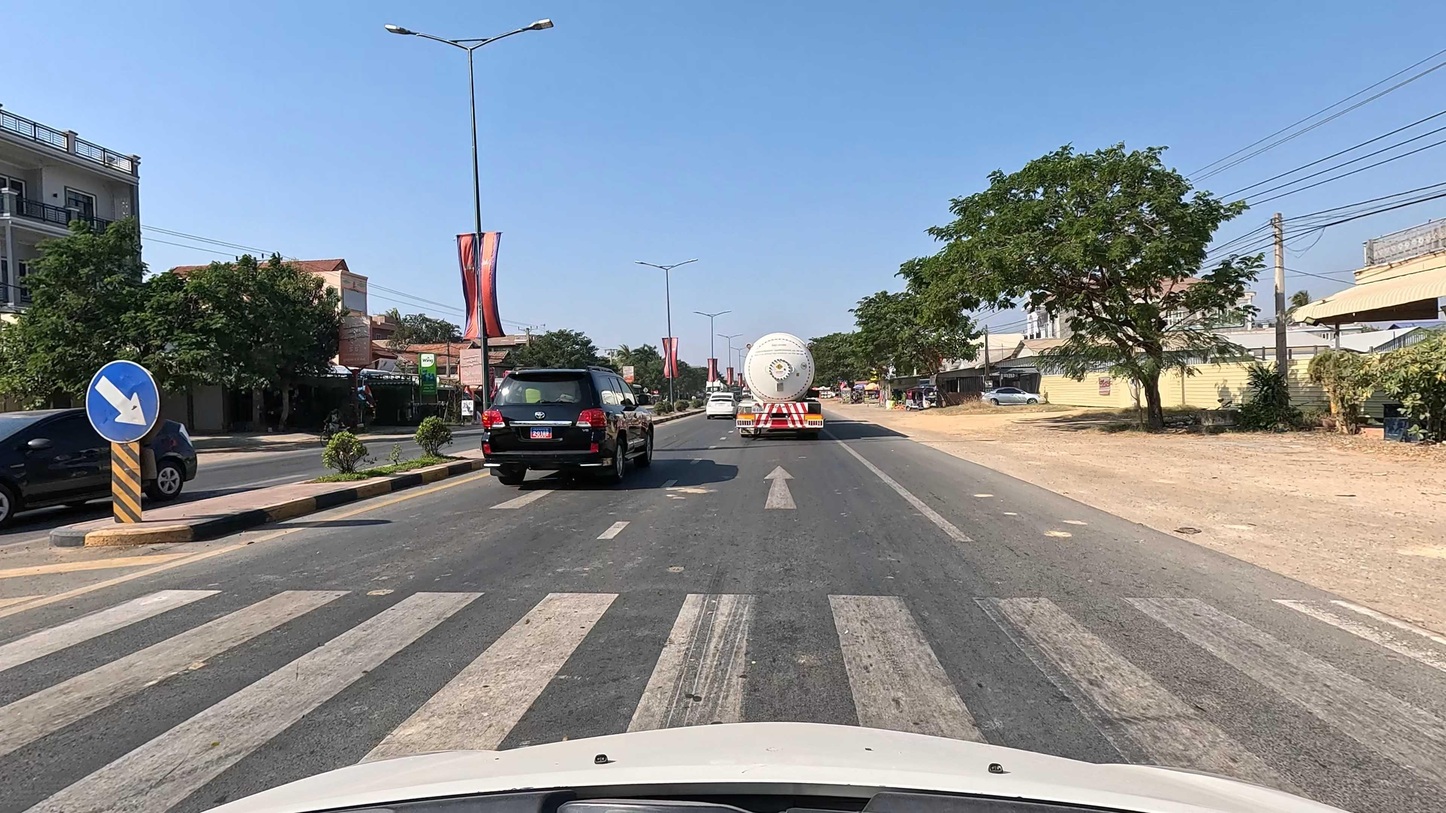keep_right: (79, 360, 169, 445)
